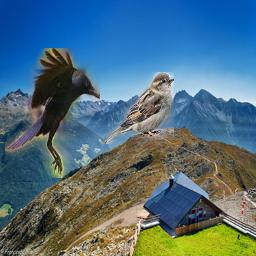Crow: (5, 48, 100, 178)
Sparrow: (103, 72, 174, 144)
